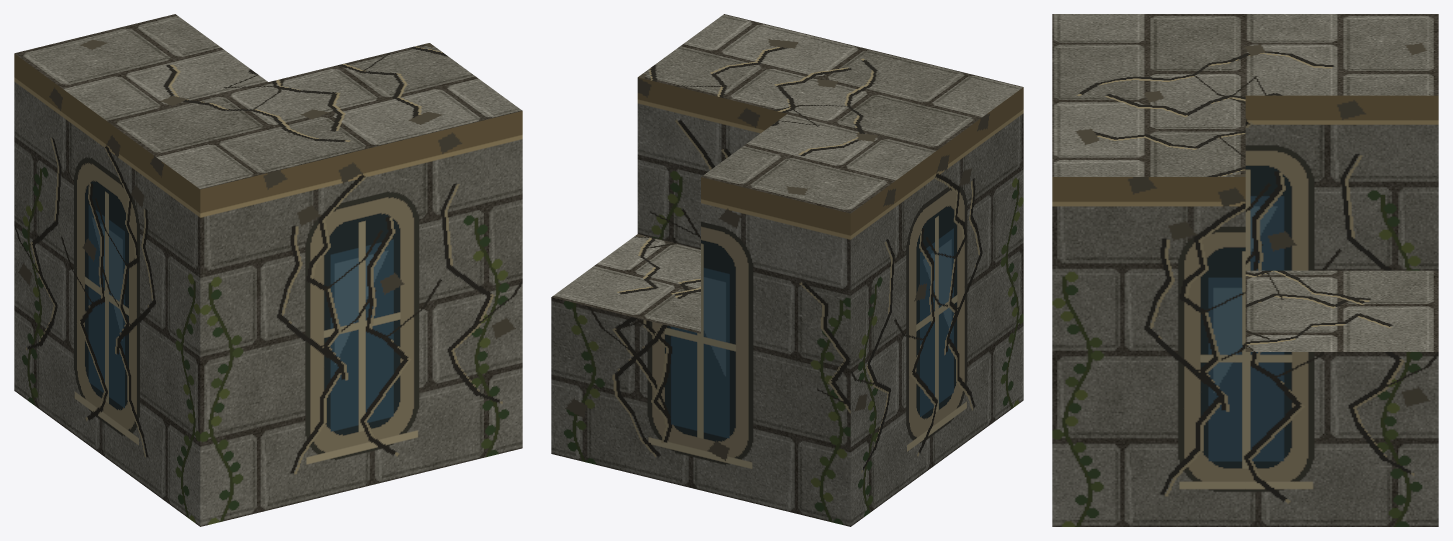
File: palace_z2.glb
3 views of the same model, side by side, from view 1: azimuth 30°, elevation 25°; view 2: azimuth 150°, elevation 25°; view 3: azimuth 270°, elevation 25° (orthographic). The views are drawn at different scales.
Parts seen in each view (by area): view 1: palace_z2; view 2: palace_z2; view 3: palace_z2.
Boxes of the visible parts, box(x1,y1,x2,y2) form: palace_z2: box(14, 14, 522, 526); palace_z2: box(551, 14, 1023, 526); palace_z2: box(1052, 14, 1438, 526).
Size of the model in its own units: 1 by 1 by 1.
Materials: 1 (1 with a texture image).
